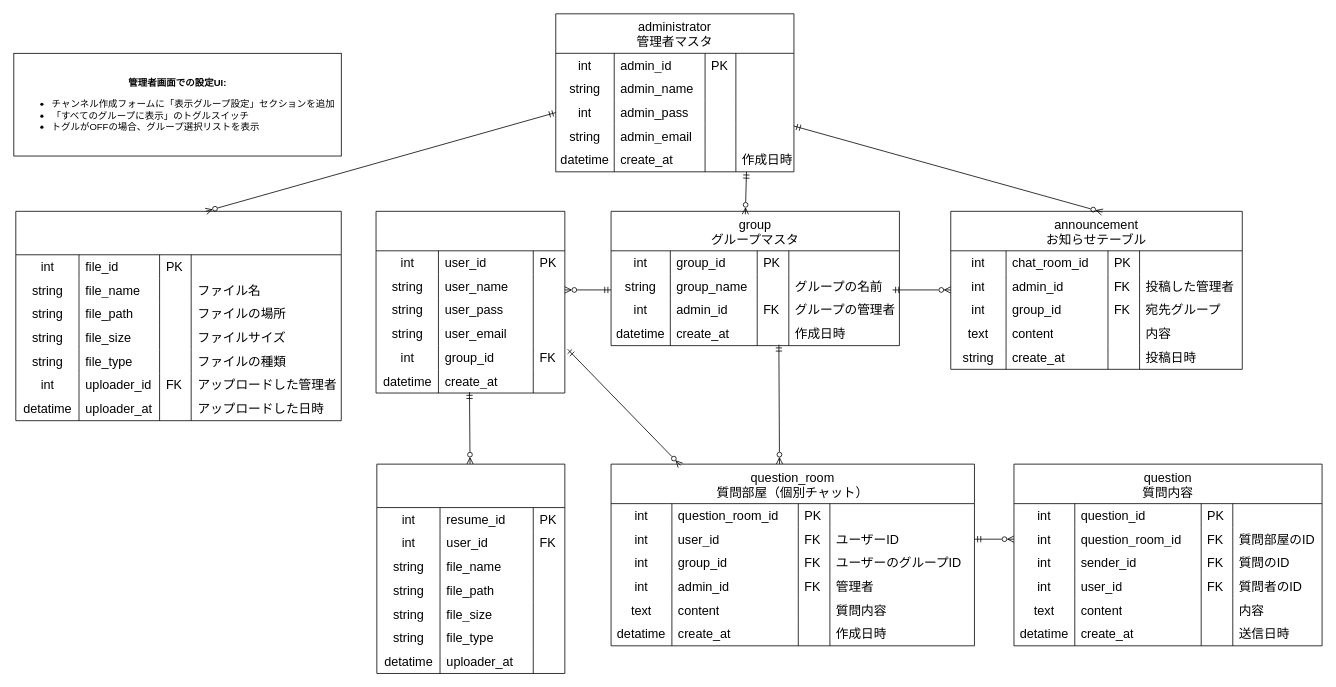
Some shapes in this 1336 by 687 pixel diagram are drawn without their labels. Each missing label, with the box of its shape:
document ファイル: (15, 211, 341, 421)
resume 履歴書: (376, 463, 565, 673)
users ユーザーマスタ: (375, 211, 565, 393)
